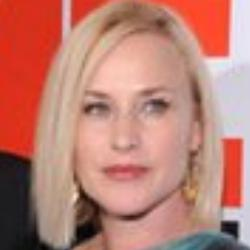face: (19, 2, 230, 239)
